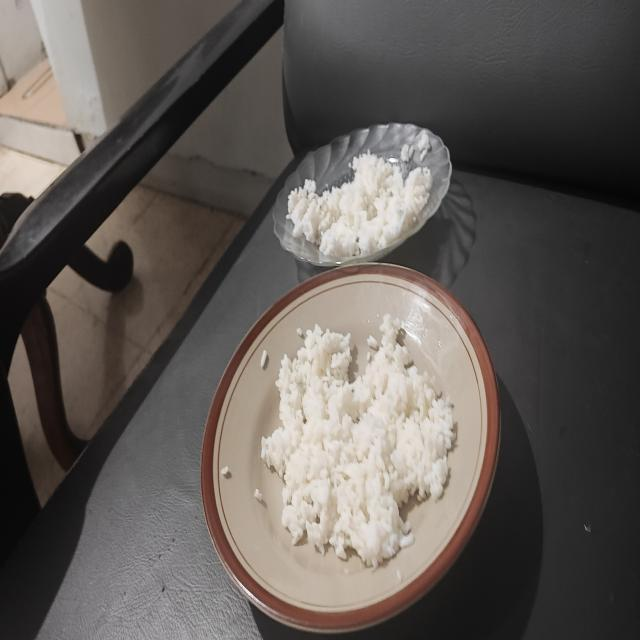nasi_putih: (260, 331, 456, 566), (286, 151, 432, 261)
